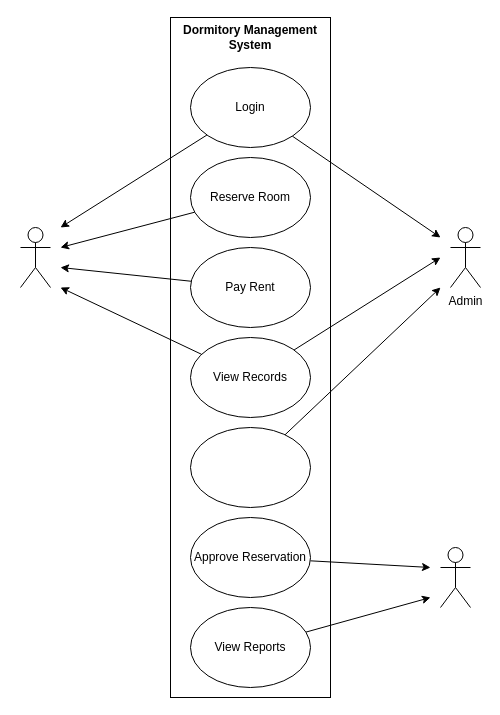
Image size: 500x715. Some labels were removed from this diagram. Each missing label, with the box of its shape:
Assign Room: (190, 426, 310, 508)
Landlord: (440, 546, 470, 608)
Tenant: (20, 226, 50, 288)
